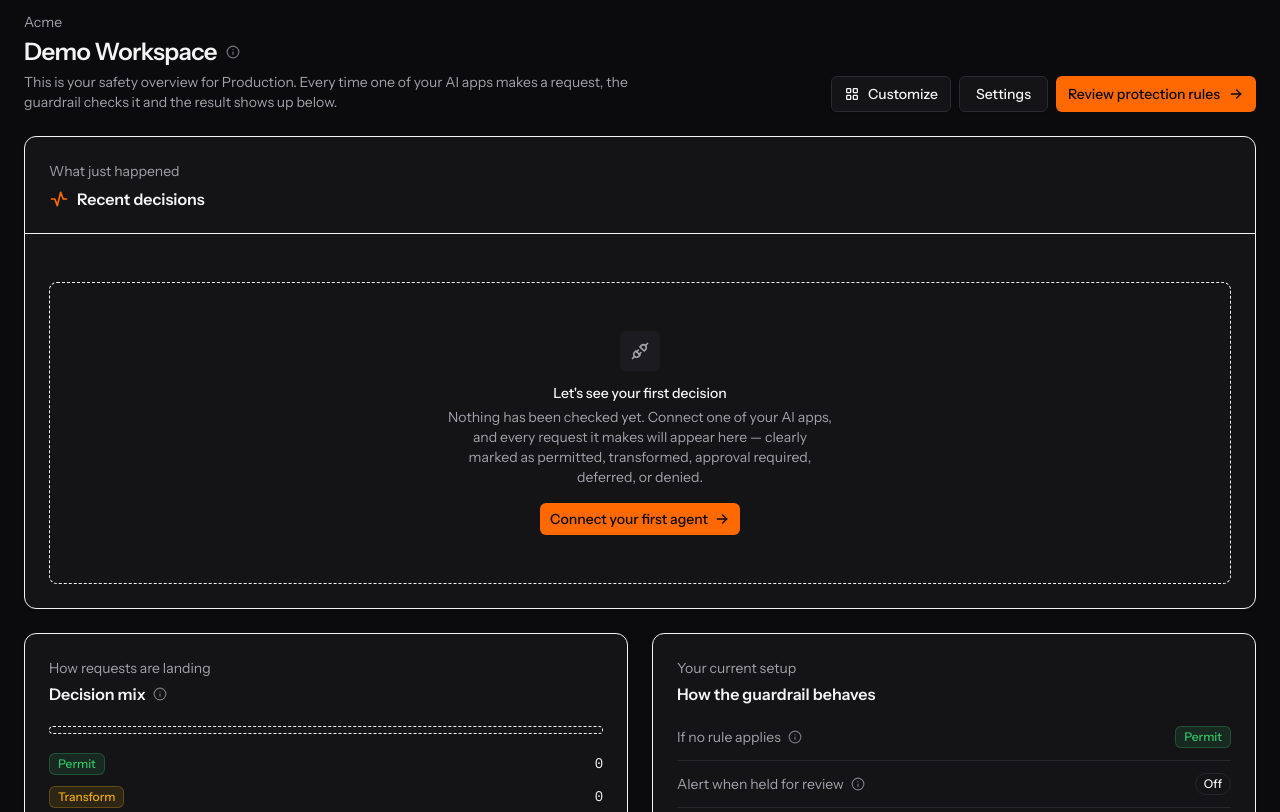
WorkspaceDashboard customization › hides a widget when unchecked and persists the choice
Expected: the text "How the guardrail behaves" is shown, [677,684,876,704]
Click the button "Customize": point(891, 94) [831,76,951,112]
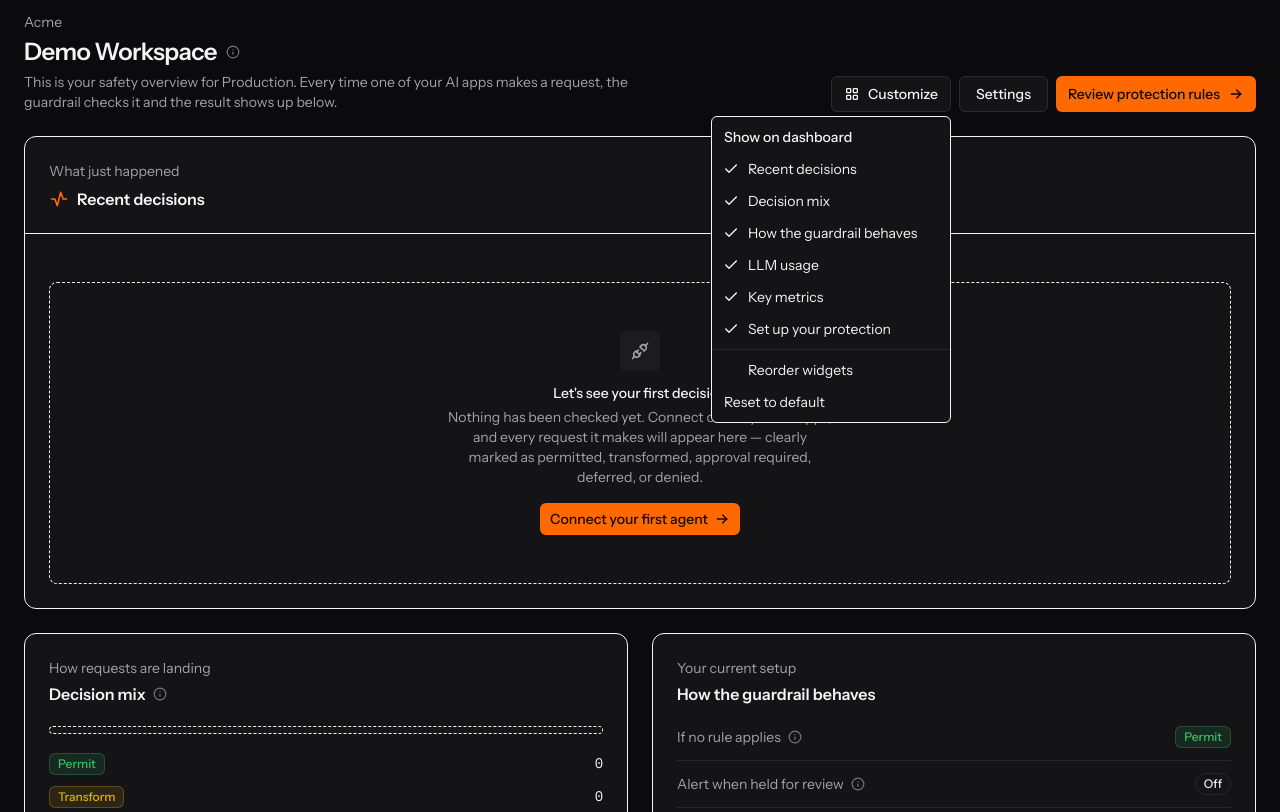
Click the menu item "How the guardrail behaves": point(820, 233) [723,224,918,242]
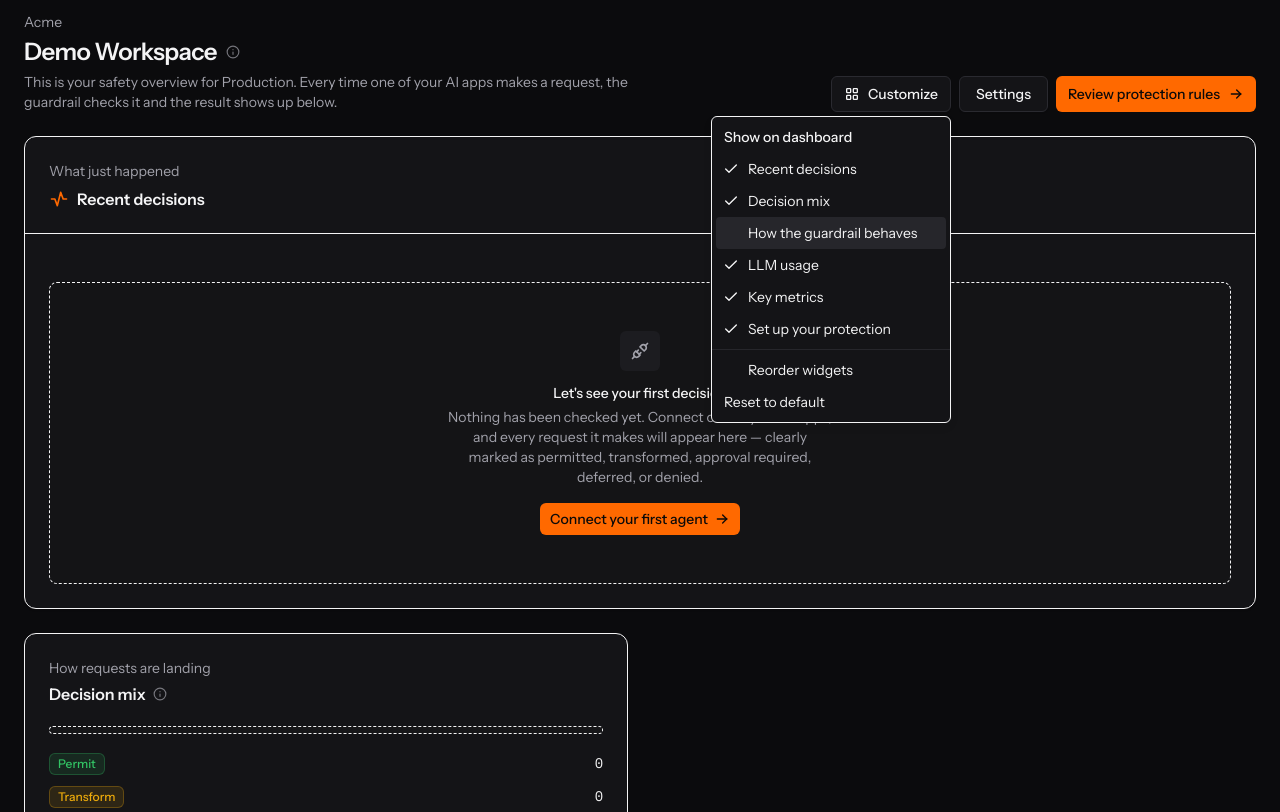
Press Escape
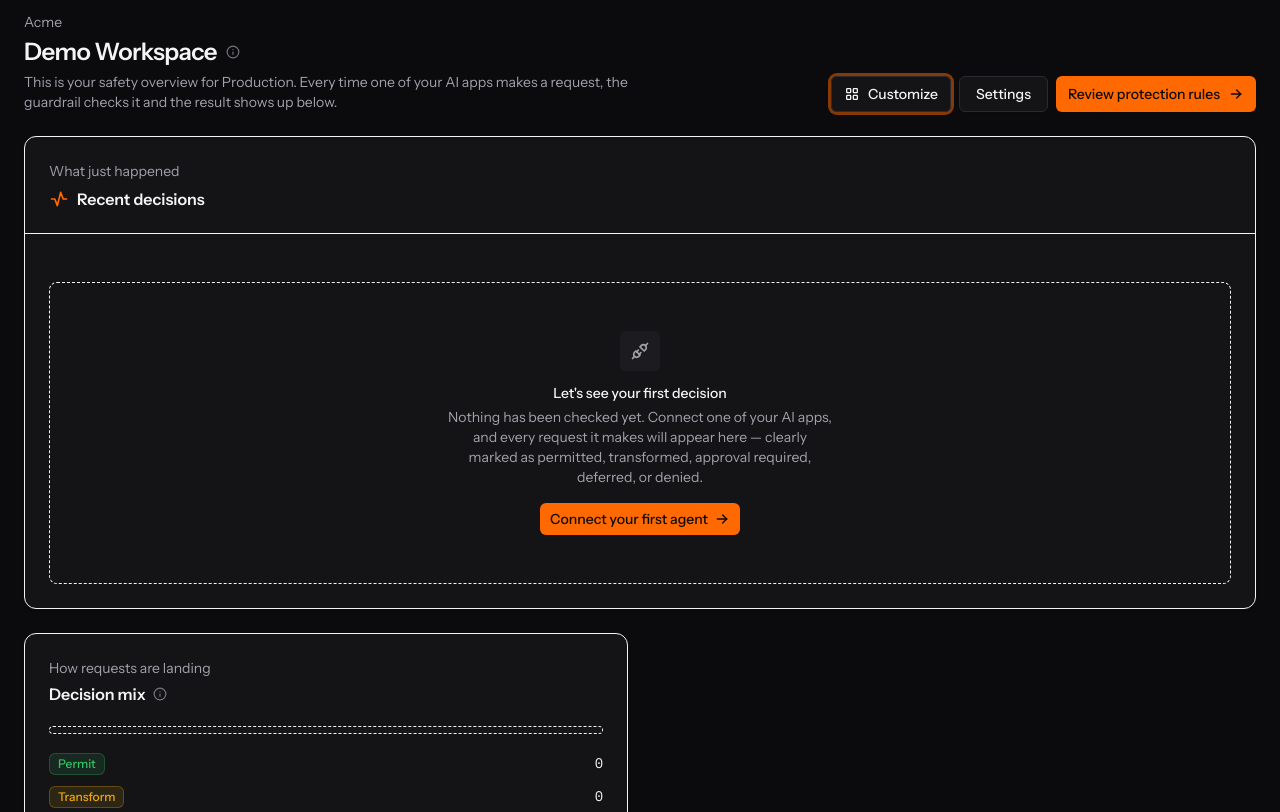
Expected: the menu item "How the guardrail behaves" is gone
